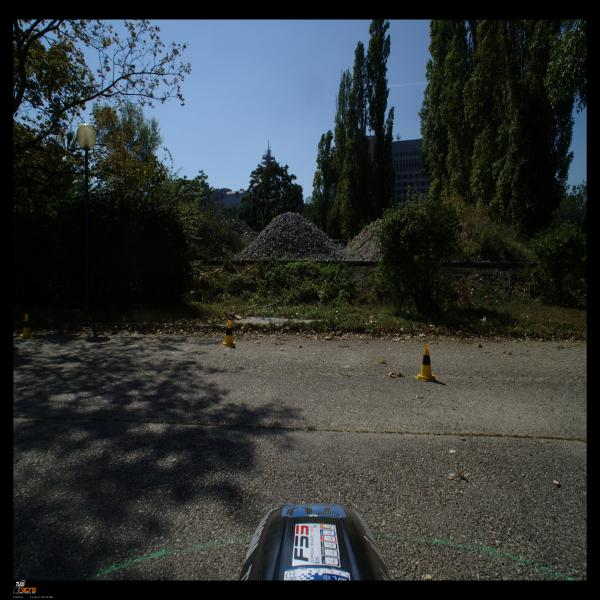yellow_cone: (414, 344, 438, 381), (222, 320, 237, 346), (18, 314, 34, 338)
